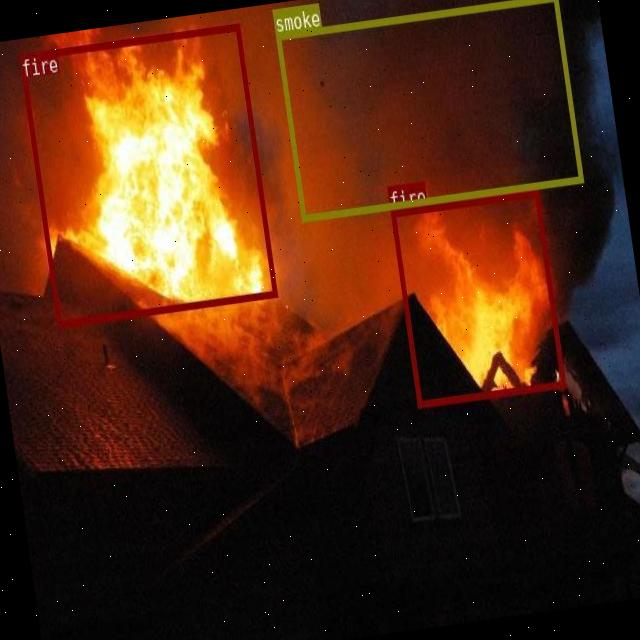fire: (18, 22, 276, 328), (390, 190, 564, 406)
smoke: (275, 0, 582, 221)
